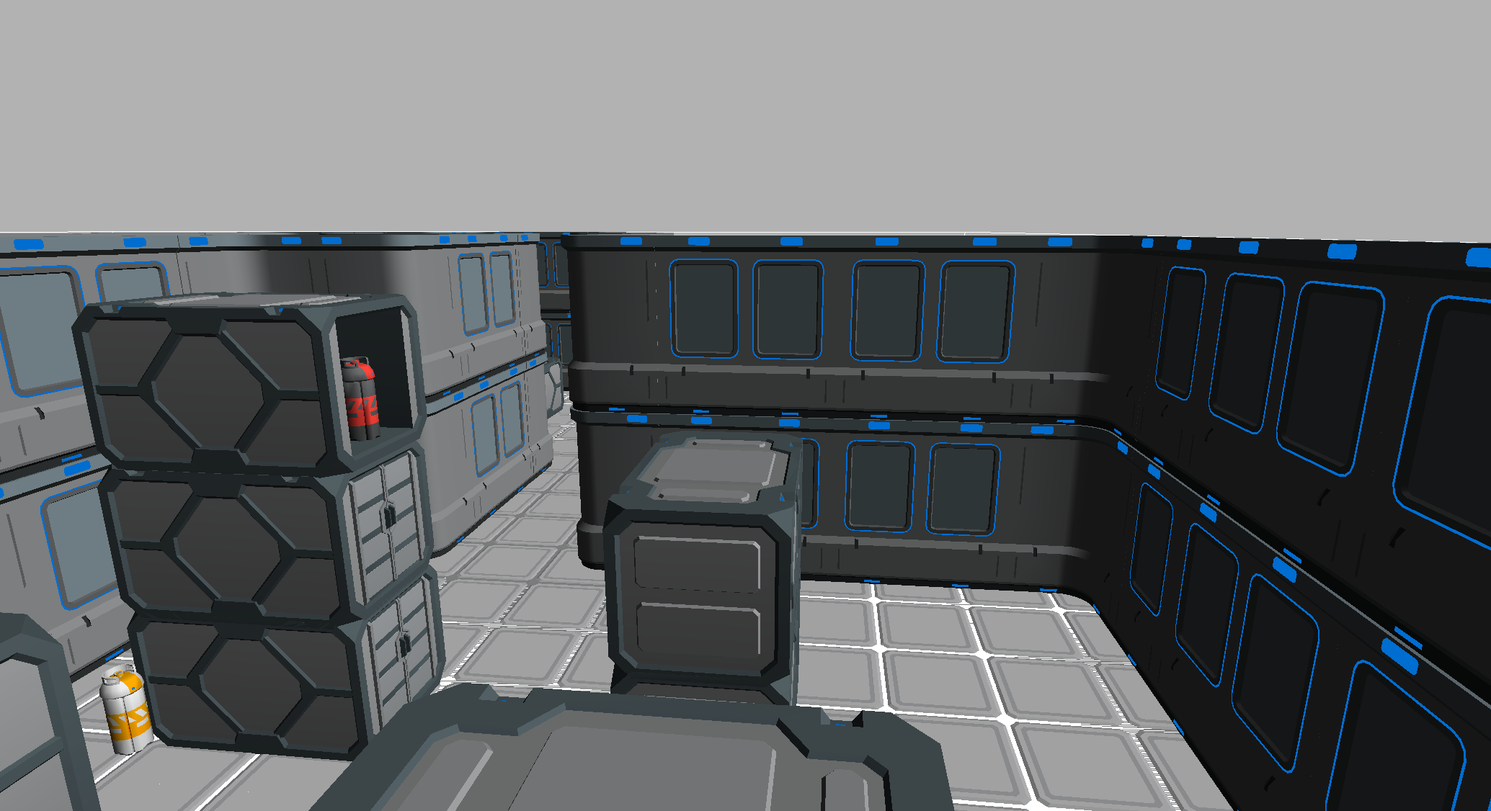red_barrel: (341, 357, 380, 440)
yellow_barrel: (99, 670, 153, 755)
